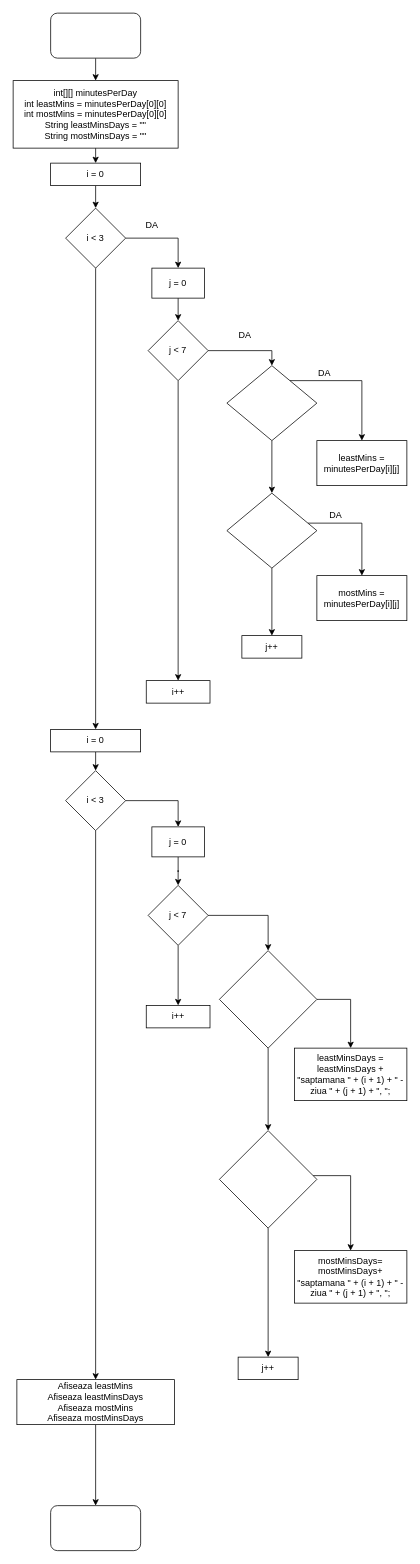
Some shapes in this 420 by 1564 pixel diagram are drawn without their labels. The shapes that lost their labels are listed below. From the top down, each one's centre as x and y in pixels, then its label:
At point 95,35: "START".
At point 271,403: "minutesPerDay[i][j] <= leastMins".
At point 271,530: "minutesPerDay[i][j] >= mostMins".
At point 268,999: "minutesPerDay[i][j] == leastMins".
At point 268,1179: "minutesPerDay[i][j] == mostMins".
At point 95,1528: "STOP".
